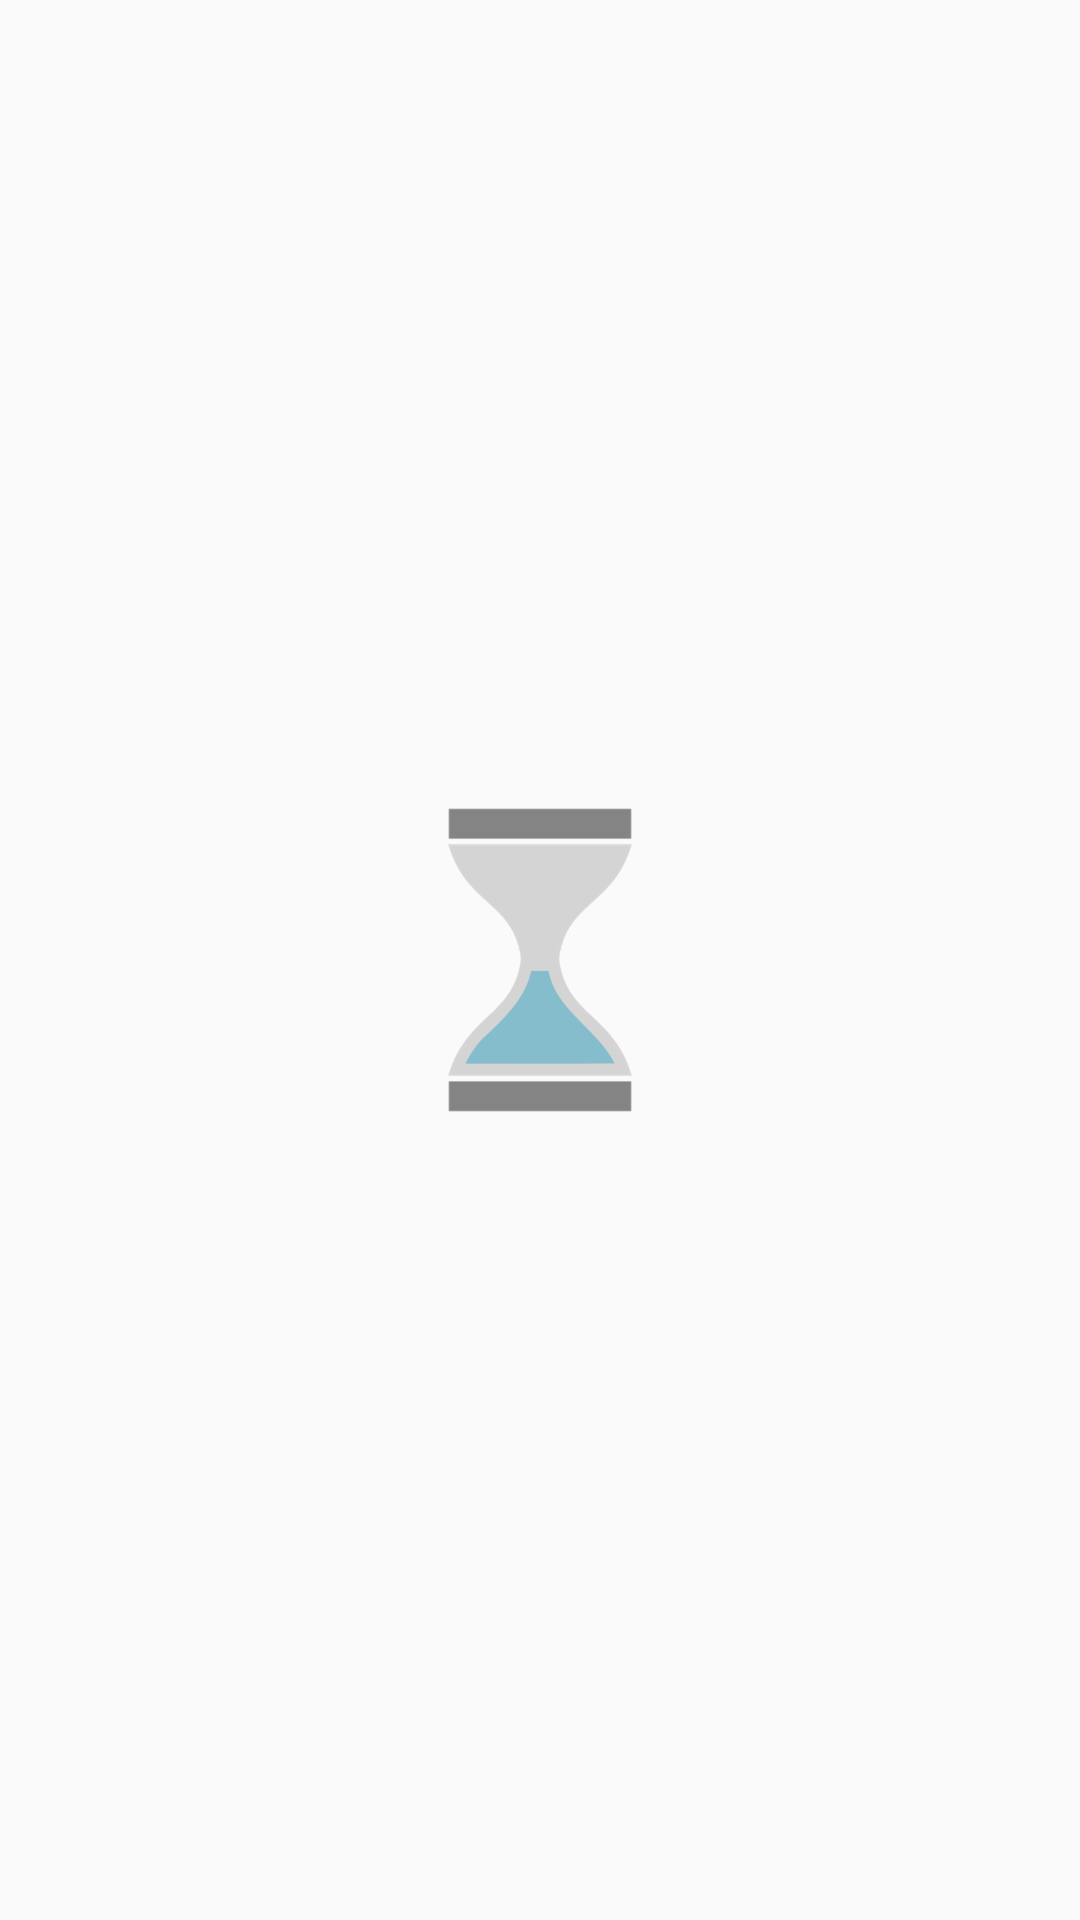

Point at icon controls on the screen. Image size 1080 x 1920, points as (x,y).
hourglass animation: (540,960)
